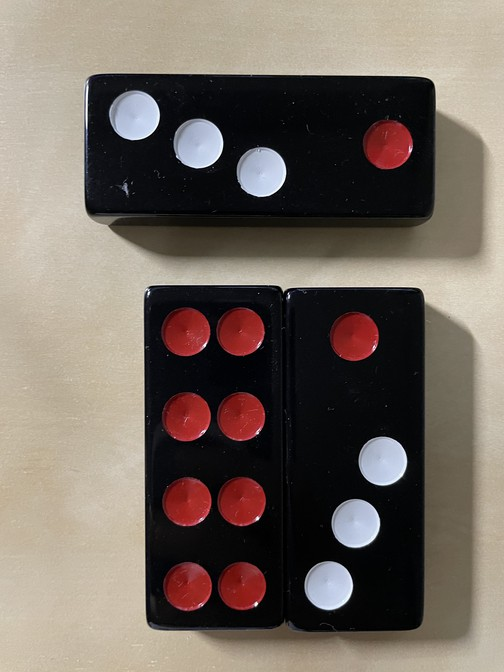goose: (86, 73, 434, 227), (283, 289, 428, 632)
man: (143, 287, 284, 631)
